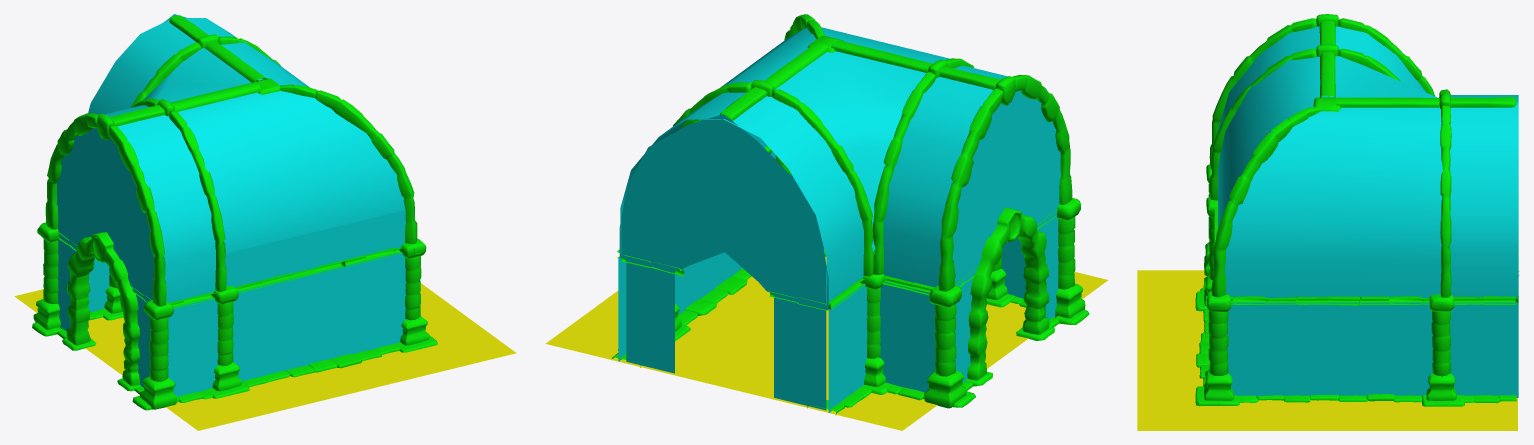
File: Hallway_Corner_2.fbx
3 renders of one model, left to right at view 1: azimuth 30°, elevation 25°; view 2: azimuth 150°, elevation 25°; view 3: azimuth 270°, elevation 25°, orthographic. The views are drawn at different scales.
Parts seen in each view (by area): view 1: Room_Corner_2:Corner1Walls, Room_Corner_2:Corner1Frame, Room_Corner_2:FloorCorner1; view 2: Room_Corner_2:Corner1Walls, Room_Corner_2:Corner1Frame, Room_Corner_2:FloorCorner1; view 3: Room_Corner_2:Corner1Walls, Room_Corner_2:Corner1Frame, Room_Corner_2:FloorCorner1.
Boxes of the visible parts, x1,y1,x2,y2 form: Room_Corner_2:Corner1Walls: (56, 14, 406, 396); Room_Corner_2:Corner1Frame: (32, 15, 437, 410); Room_Corner_2:FloorCorner1: (14, 283, 516, 430); Room_Corner_2:Corner1Walls: (618, 27, 1060, 412); Room_Corner_2:Corner1Frame: (612, 14, 1089, 415); Room_Corner_2:FloorCorner1: (545, 256, 1108, 430); Room_Corner_2:Corner1Walls: (1217, 26, 1518, 397); Room_Corner_2:Corner1Frame: (1195, 14, 1519, 406); Room_Corner_2:FloorCorner1: (1137, 270, 1517, 430).
Size of the model in its own units: 1269 by 895 by 1205.
